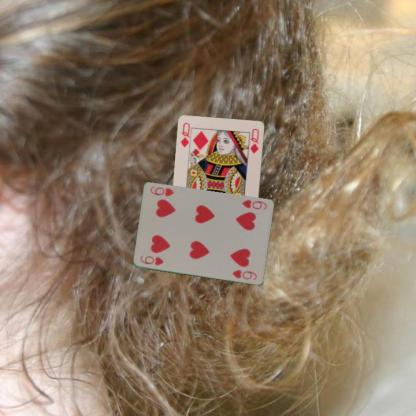6h: (239, 197, 268, 211), (138, 253, 164, 267)
Qd: (179, 120, 193, 151)
